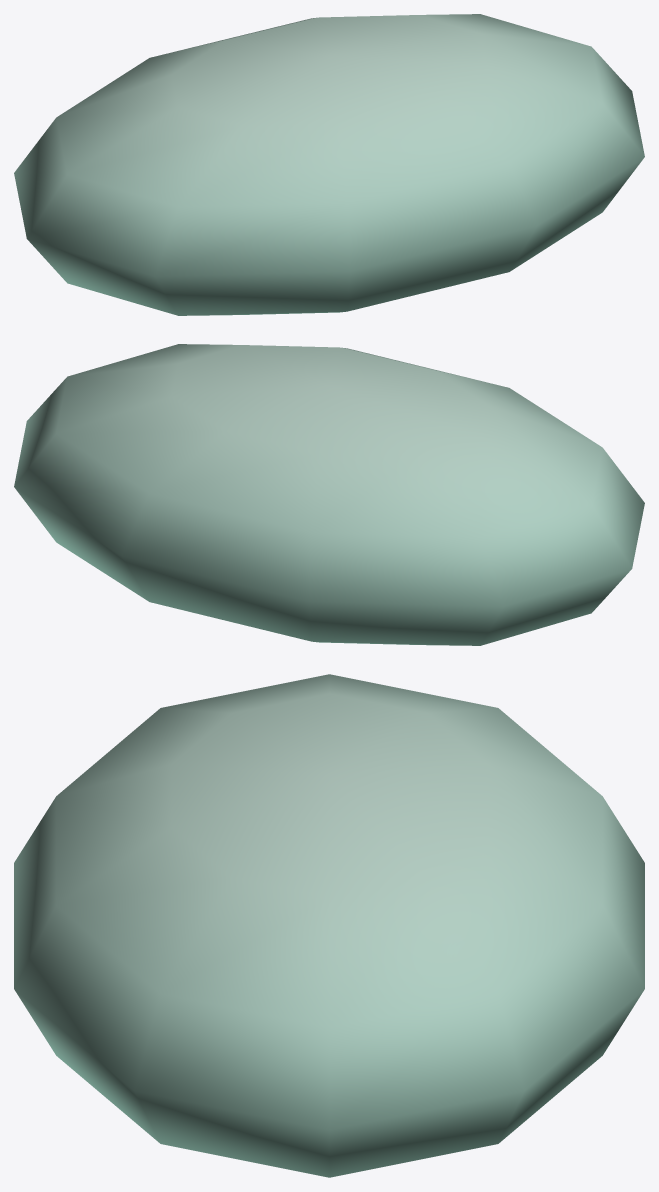
Rendered from Coast_SeaGlass.fbx.
3 views of the same model, one above another, from view 1: azimuth 30°, elevation 25°; view 2: azimuth 150°, elevation 25°; view 3: azimuth 270°, elevation 25° (orthographic). The views are drawn at different scales.
Parts seen in each view (by area): view 1: Coast_SeaGlass; view 2: Coast_SeaGlass; view 3: Coast_SeaGlass.
Part boxes in pixels (box(x1,y1,x2,y2)): Coast_SeaGlass: box(14, 14, 644, 315); Coast_SeaGlass: box(14, 344, 644, 645); Coast_SeaGlass: box(14, 674, 644, 1177).
Size of the model in its own units: 0.64 by 0.22 by 0.4185.
